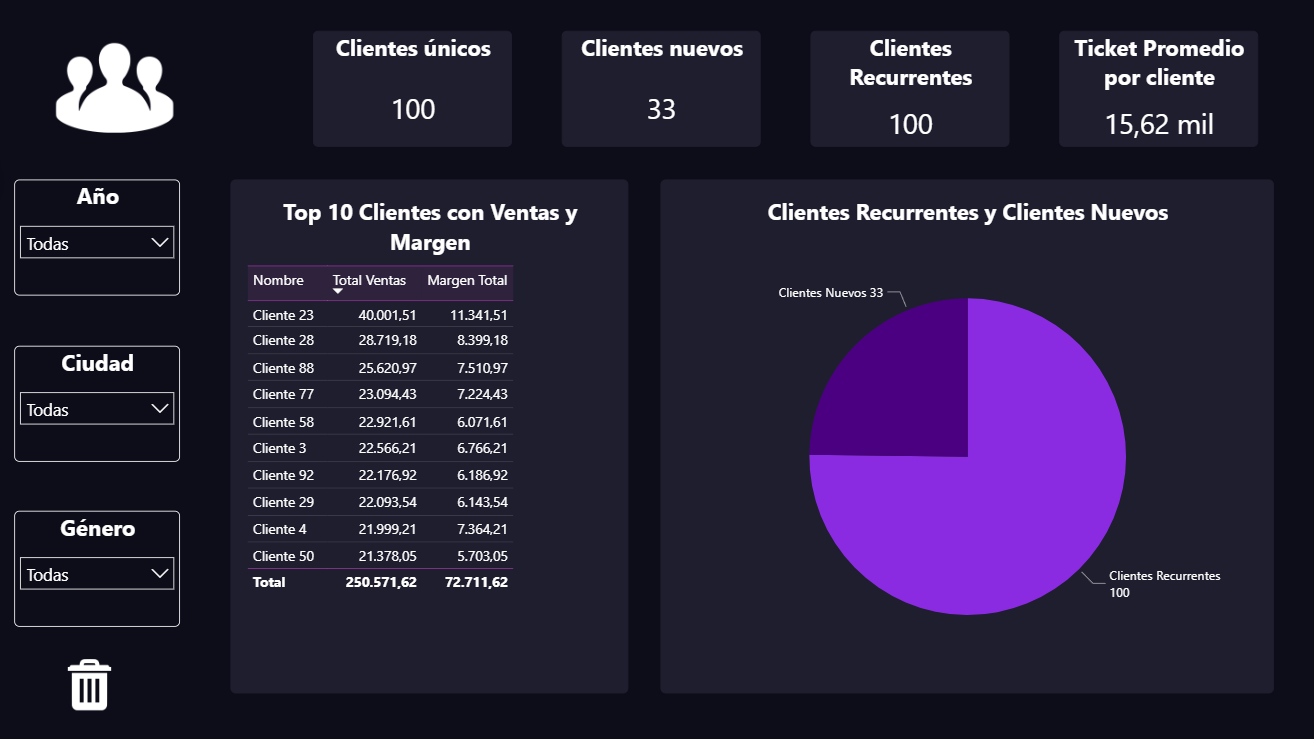

What the dashboard file says about the page in this screenshot:
{"tool":"powerbi","page":{"name":"Clientes","canvas":[1280,720],"ordinal":1},"visuals":[{"type":"card","title":"Clientes únicos","fields":{"Values":["Ventas.Clientes Únicos"]},"box":[304,32,192,112],"z":0},{"type":"slicer","title":"Año","fields":{"Values":["Calendario_Clientes.Año"]},"box":[16,176,160,112],"z":1000},{"type":"slicer","title":"Género","fields":{"Values":["Clientes.Genero"]},"box":[16,496,160,112],"z":2000},{"type":"slicer","title":"Ciudad","fields":{"Values":["Clientes.Ciudad"]},"box":[16,336,160,112],"z":3000},{"type":"card","title":"Clientes nuevos","fields":{"Values":["Clientes.Clientes Nuevos"]},"box":[544,32,192,112],"z":4000},{"type":"card","title":"Ticket Promedio por cliente","fields":{"Values":["Clientes.Ticket Promedio por Cliente"]},"box":[1024,32,192,112],"z":5000},{"type":"card","title":"Clientes Recurrentes","fields":{"Values":["Clientes.Clientes Recurrentes"]},"box":[784,32,192,112],"z":6000},{"type":"tableEx","title":"Top 10 Clientes con Ventas y Margen","fields":{"Values":["Clientes.Nombre","Ventas.Total Ventas","Ventas.Margen Total"]},"box":[224,176,384,496],"z":7000},{"type":"image","box":[32,16,160,144],"z":8000},{"type":"pieChart","fields":{"Y":["Clientes.Clientes Recurrentes","Clientes.Clientes Nuevos"]},"box":[640,176,592,496],"z":9000},{"type":"image","box":[48,624,80,80],"z":9001}]}

Visuals, with their boxes in screenshot pixels (x1, y1, x2, y2), scaled from the page's 1280x720 canvas onto the 1314x739 screenshot:
"Clientes únicos" card: (x1=312, y1=33, x2=509, y2=148)
"Año" slicer: (x1=16, y1=181, x2=181, y2=296)
"Género" slicer: (x1=16, y1=509, x2=181, y2=624)
"Ciudad" slicer: (x1=16, y1=345, x2=181, y2=460)
"Clientes nuevos" card: (x1=558, y1=33, x2=756, y2=148)
"Ticket Promedio por cliente" card: (x1=1051, y1=33, x2=1248, y2=148)
"Clientes Recurrentes" card: (x1=805, y1=33, x2=1002, y2=148)
"Top 10 Clientes con Ventas y Margen" tableEx: (x1=230, y1=181, x2=624, y2=690)
image: (x1=33, y1=16, x2=197, y2=164)
pieChart - Clientes.Clientes Recurrentes x Clientes.Clientes Nuevos: (x1=657, y1=181, x2=1265, y2=690)
image: (x1=49, y1=640, x2=131, y2=723)
